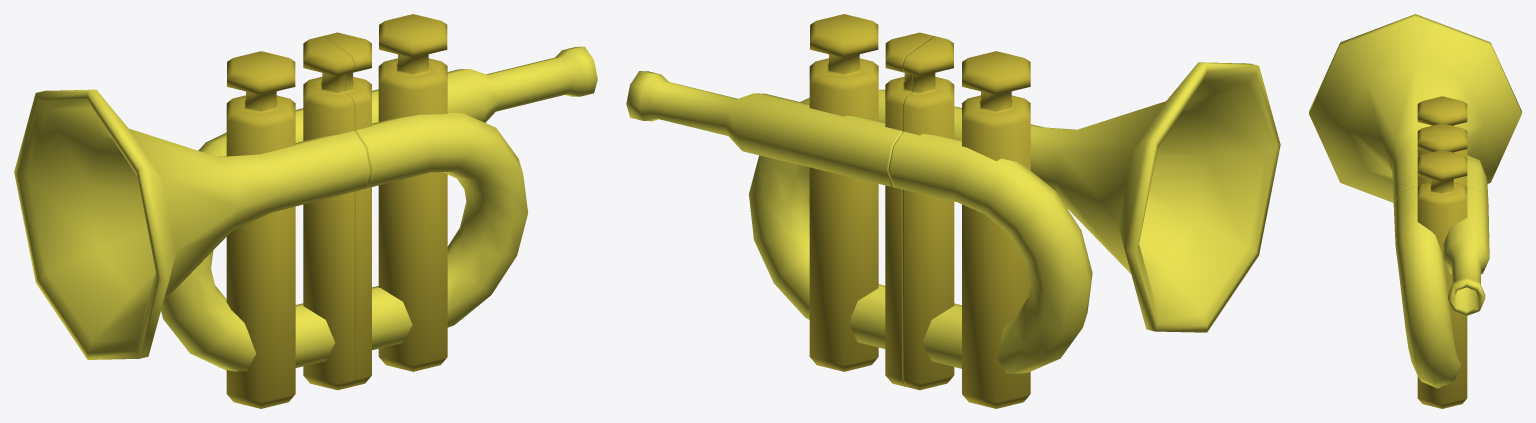
The model's file is SM_Trumpet_01a.fbx.
The picture shows the model from 3 angles, left to right: view 1: azimuth 30°, elevation 25°; view 2: azimuth 150°, elevation 25°; view 3: azimuth 270°, elevation 25°; orthographic projection. The views are drawn at different scales.
Visible parts, largest first — view 1: Trumpet_02, Trumpet_01; view 2: Trumpet_02, Trumpet_01; view 3: Trumpet_02, Trumpet_01.
Part boxes in pixels (bbox=[...]): Trumpet_02: bbox=[14, 36, 370, 408]; Trumpet_01: bbox=[324, 14, 597, 386]; Trumpet_02: bbox=[888, 36, 1280, 408]; Trumpet_01: bbox=[626, 14, 933, 386]; Trumpet_02: bbox=[1309, 14, 1521, 205]; Trumpet_01: bbox=[1393, 133, 1489, 408].
Bounding box in the file's own units: 49.03 × 32.04 × 23.45.
